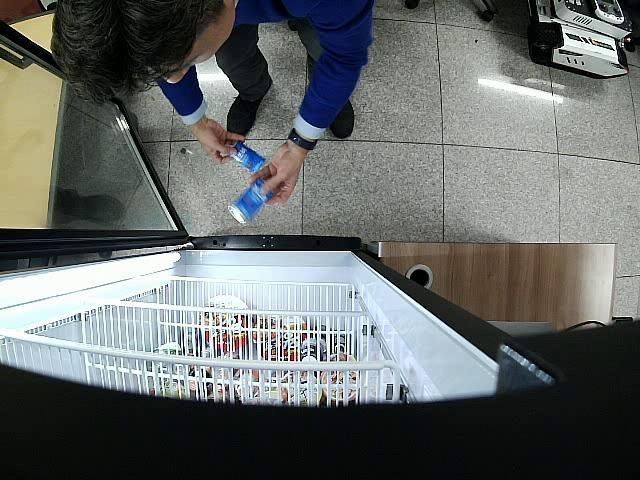15_letsbe: (228, 178, 273, 227), (230, 140, 266, 174)
